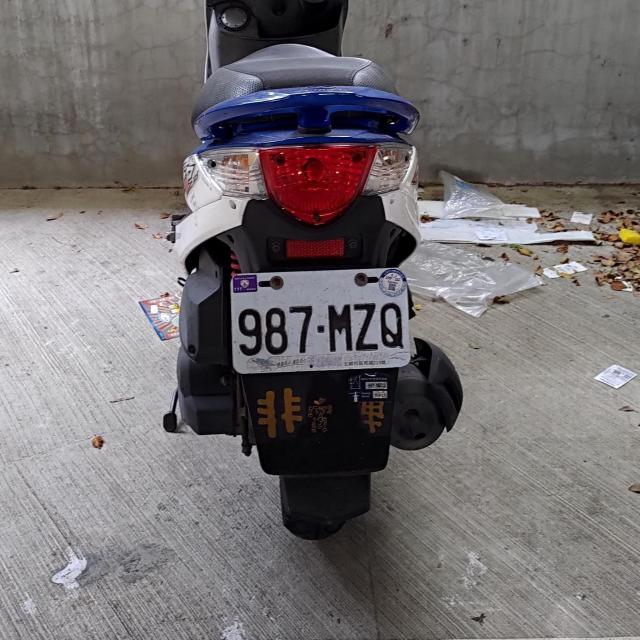W: (229, 267, 410, 373)
